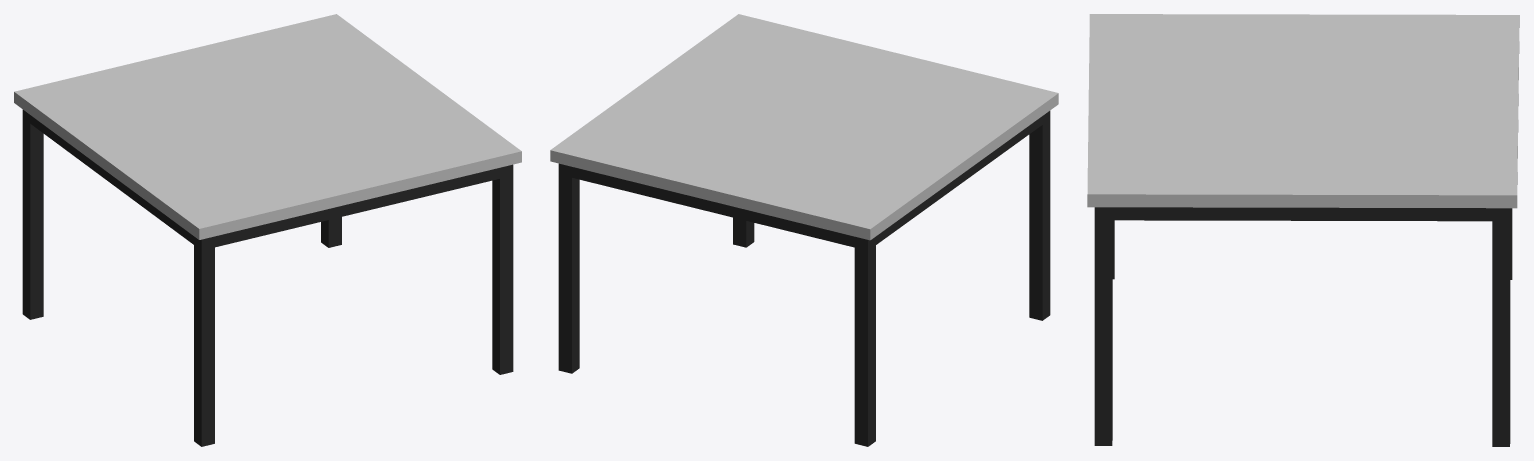
File: rectangletable2.fbx
3 renders of one model, left to right at view 1: azimuth 30°, elevation 25°; view 2: azimuth 150°, elevation 25°; view 3: azimuth 270°, elevation 25°, orthographic. The views are drawn at different scales.
Visible parts, largest first — view 1: table84; view 2: table84; view 3: table84.
Part boxes in pixels (x1,y1,x2,y2): table84: (14,14,521,446); table84: (550,14,1058,446); table84: (1087,14,1519,446).
Bounding box in the file's own units: 60.73 × 60.32 × 39.51.
